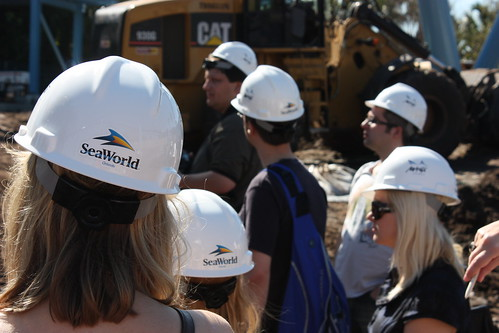person hardhat: (1, 53, 230, 333), (228, 62, 333, 332), (368, 143, 471, 333), (339, 77, 420, 317), (160, 169, 265, 333), (179, 28, 268, 205)
